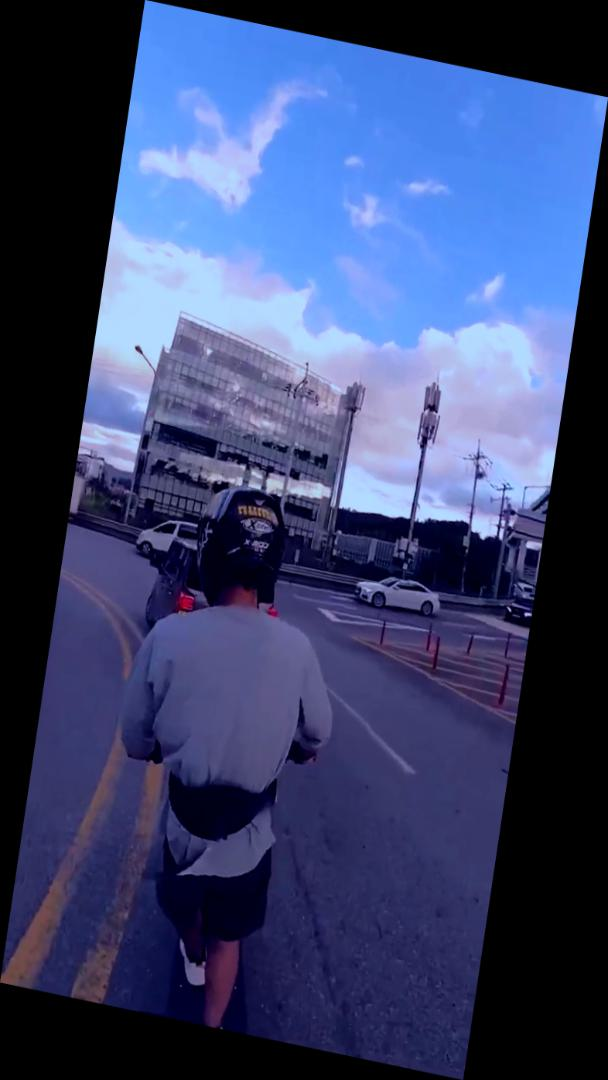helmet: (75, 468, 368, 1044)
